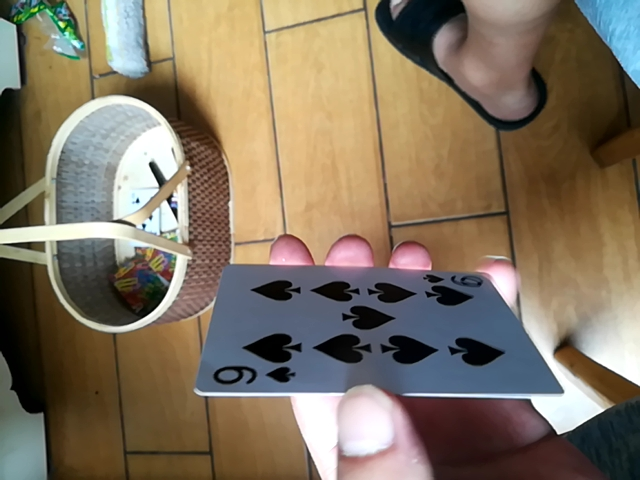ht 9: (201, 257, 558, 398)
